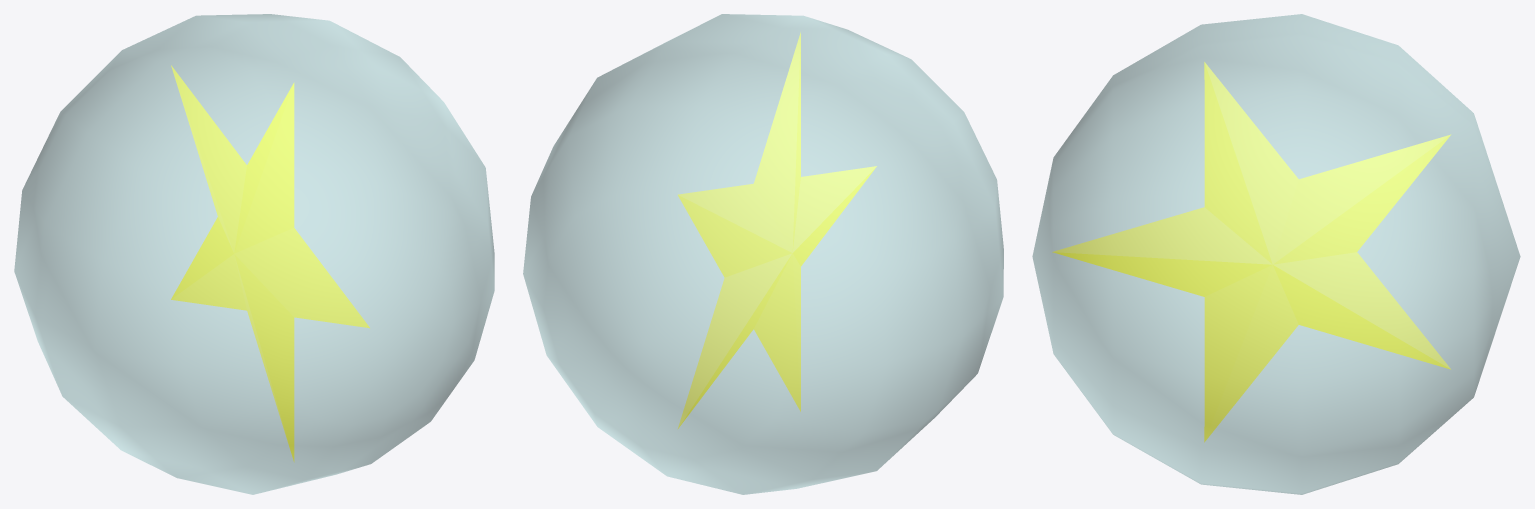
The model's file is StarBall.FBX.
3 views of the same model, side by side, from view 1: azimuth 30°, elevation 25°; view 2: azimuth 150°, elevation 25°; view 3: azimuth 270°, elevation 25° (orthographic).
Parts seen in each view (by area): view 1: Ball, Star; view 2: Ball, Star; view 3: Ball, Star.
Part boxes in pixels (x1,y1,x2,y2): Ball: (14, 14, 494, 494); Star: (171, 65, 369, 461); Ball: (523, 14, 1003, 494); Star: (678, 32, 876, 428); Ball: (1032, 14, 1520, 494); Star: (1052, 62, 1450, 442).
Bounding box in the file's own units: 19.78 × 19.67 × 20.
